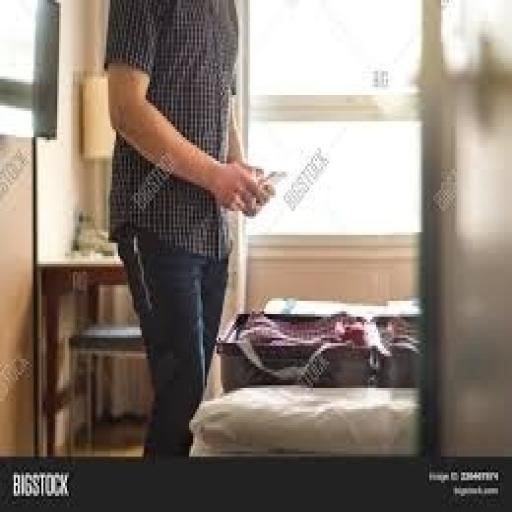texting: (100, 0, 276, 459)
